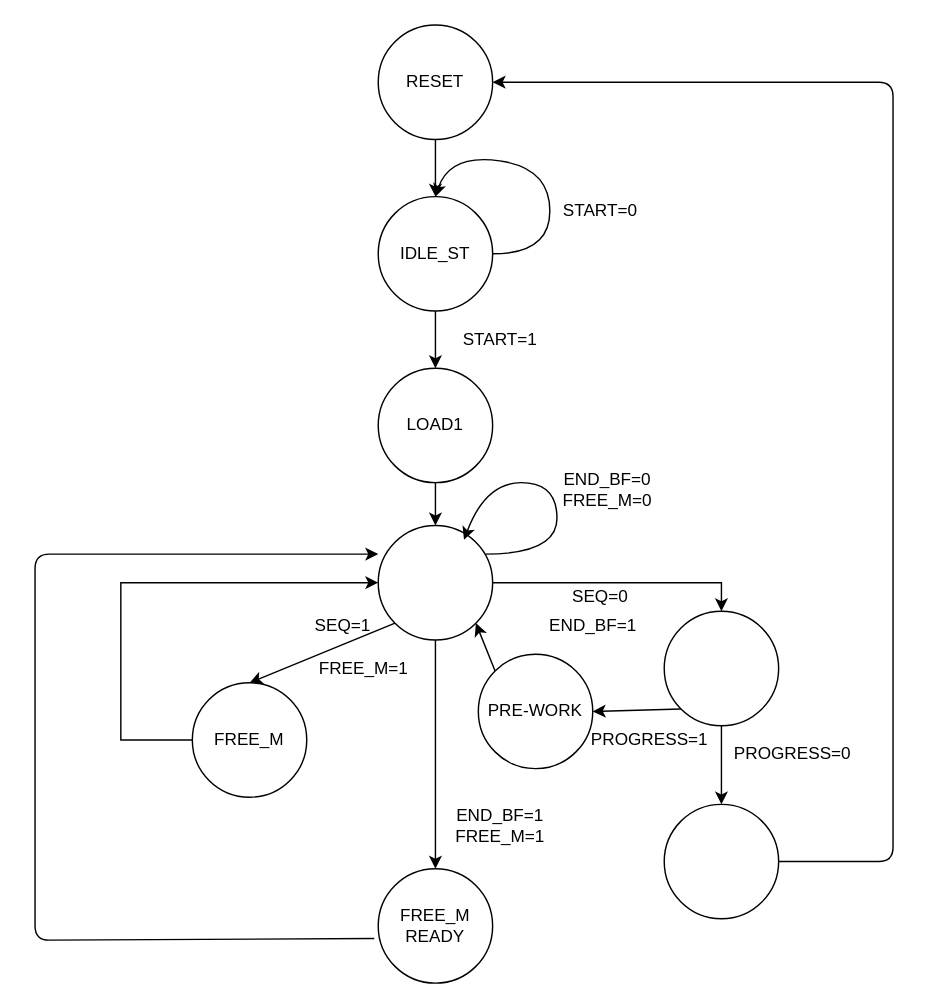
Image size: 929x1008. Some labels were removed from this diagram. Each missing label, with the box of its shape:
DONE: (663, 803, 779, 919)
READY: (663, 610, 779, 726)
WORK: (377, 524, 493, 640)
